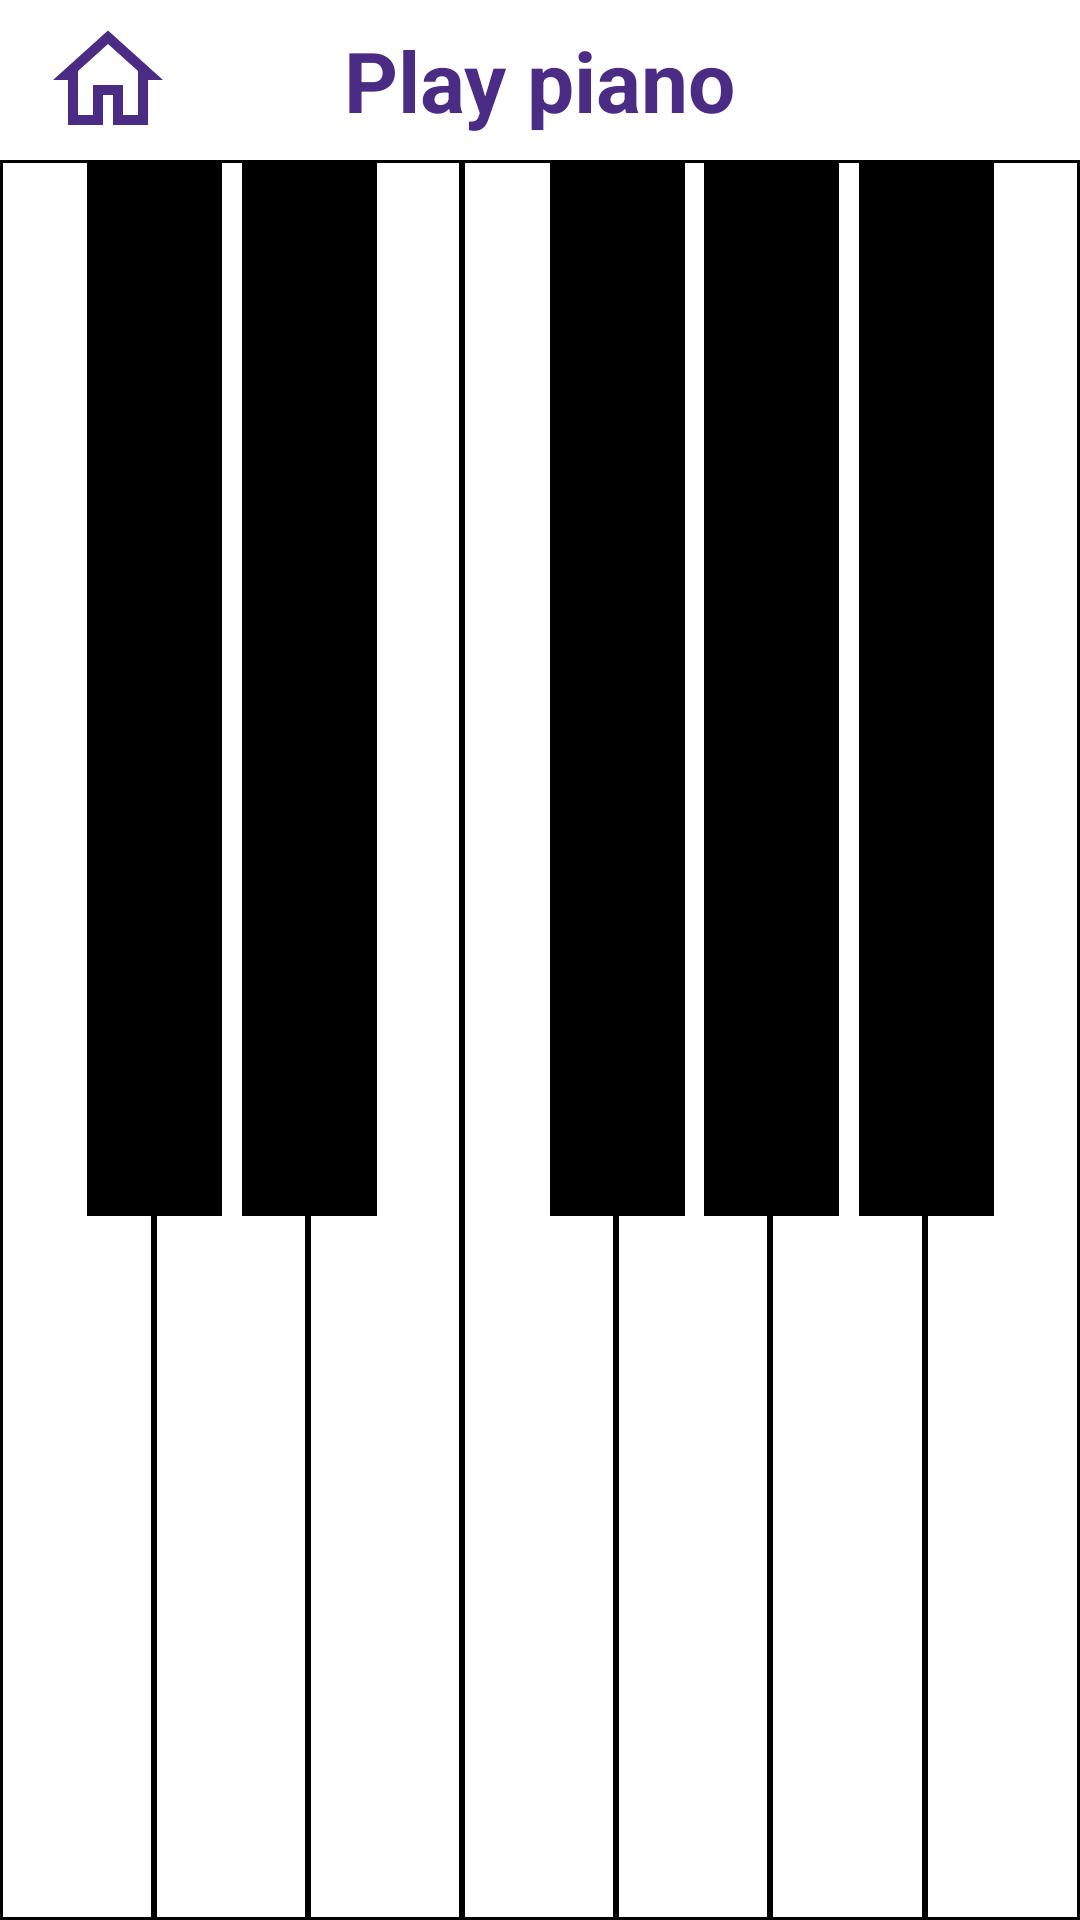

Locate icon controls on the screen. Image size 1080×1920, boxes as (x1, y1, x2, y2).
Home: (53, 30, 163, 125)
